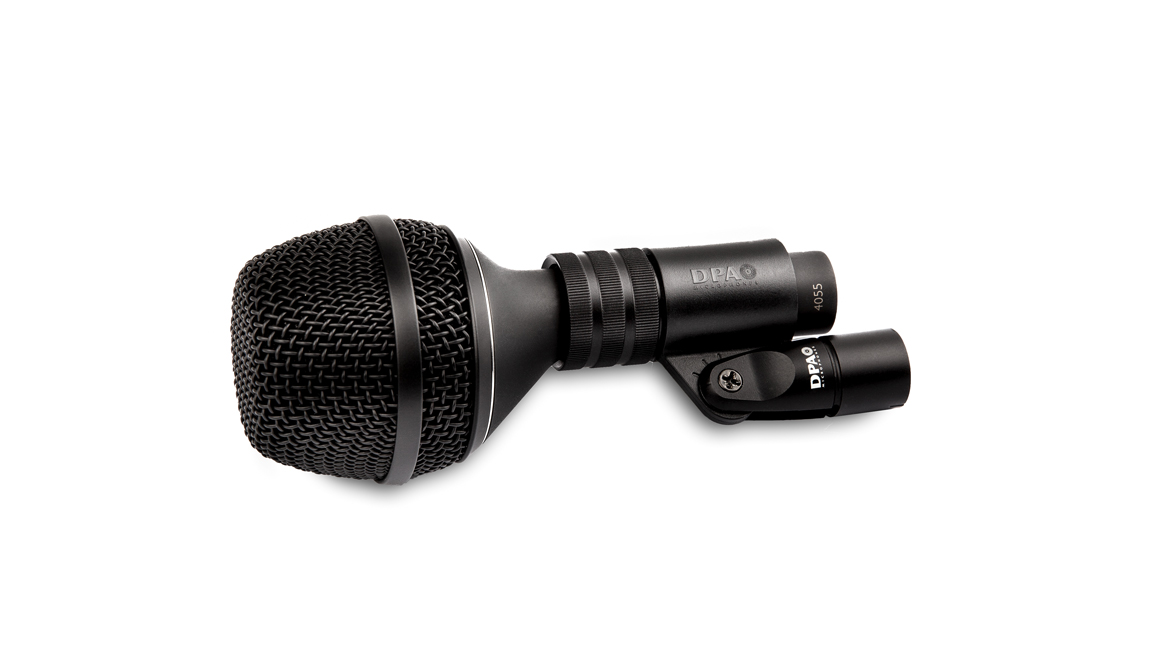microphone: (224, 208, 915, 492)
